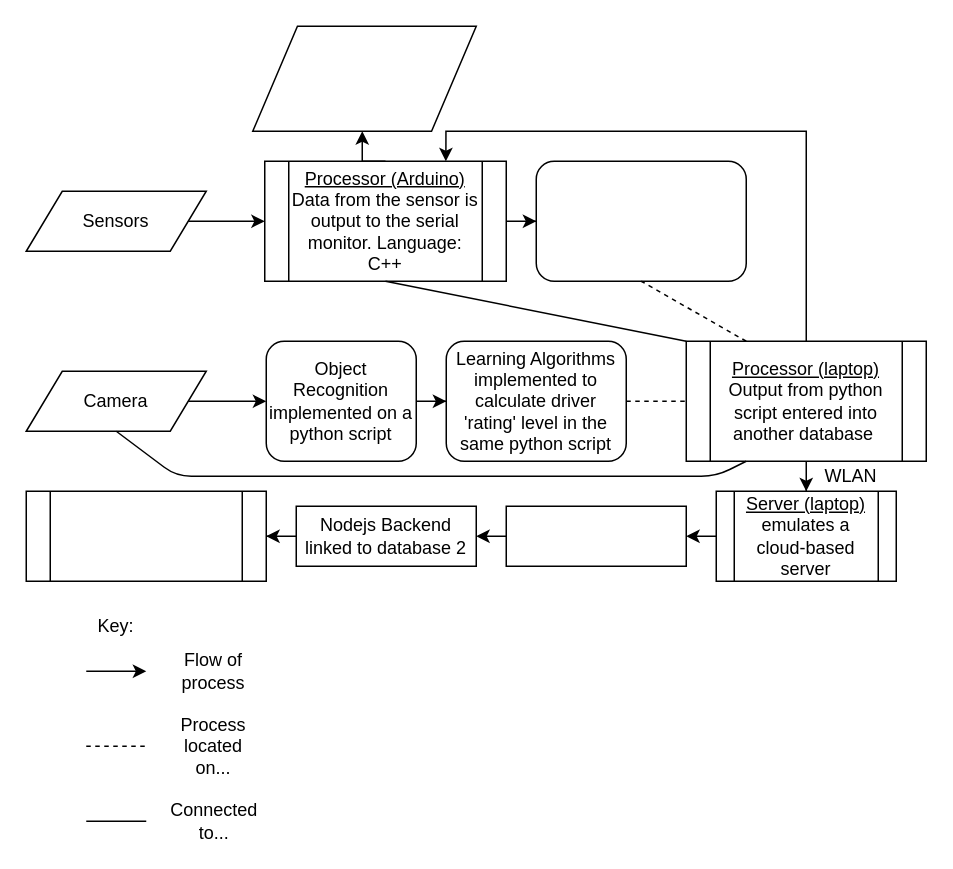
This 953x869 diagram has some shape labels left out. Each missing label, with the centre of its shape:
"A python script reads the data from the sensors off the Serial Monitor" belongs at pixel 640 220.
"Frontend app linked to the backend made with Flutter" belongs at pixel 145 535.
"SQL database" belongs at pixel 595 535.
"Visualizer (warning system)" belongs at pixel 363 78.
